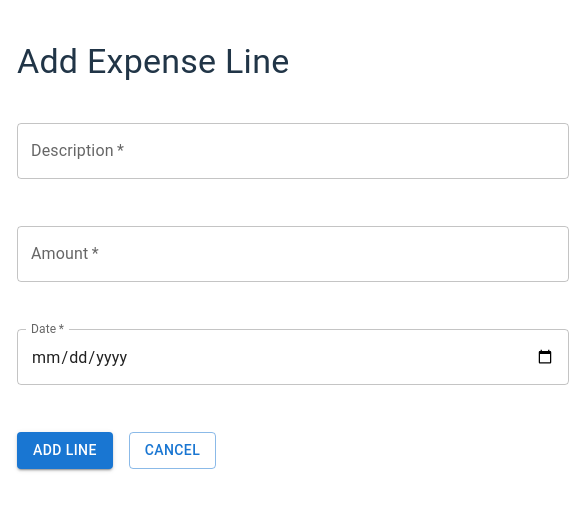
ExpenseLineDetailPage › displays server Alert on 409 response
Type "Hotel" into the field labelled "Description *". click: (293, 151)
box: [17,123,569,179]
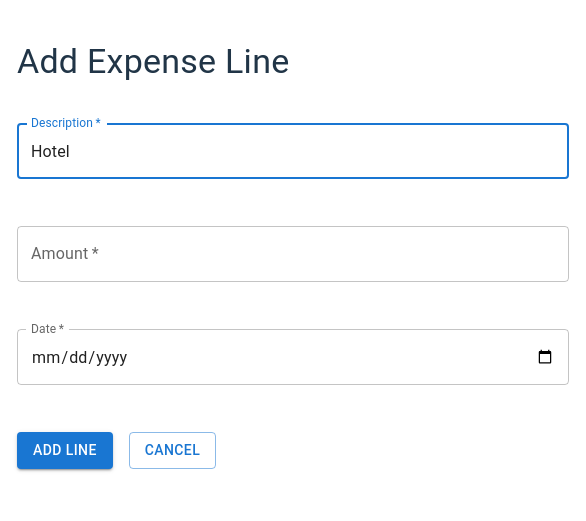
Type "50" into the number field labelled "Amount *". click: (293, 254)
box: [17,226,569,282]
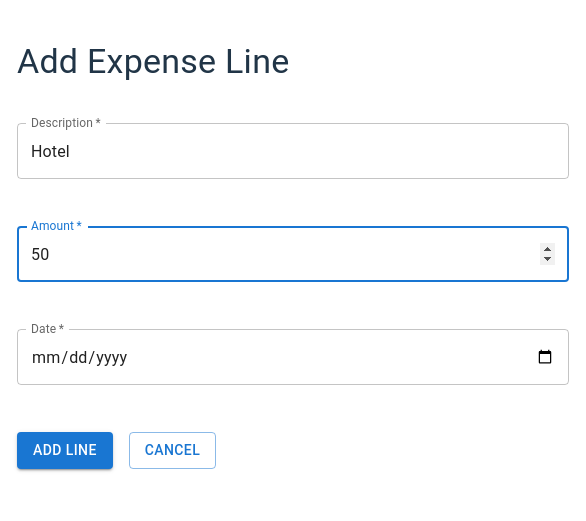
Type "2026-04-10" into the date field labelled "Date *". click: (293, 357)
box: [17,329,569,385]
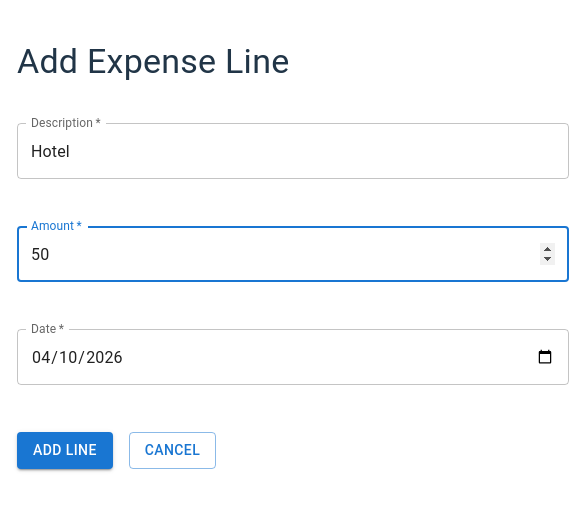
Click the button "Add Line". click: click(65, 450)
box: [17,432,113,469]
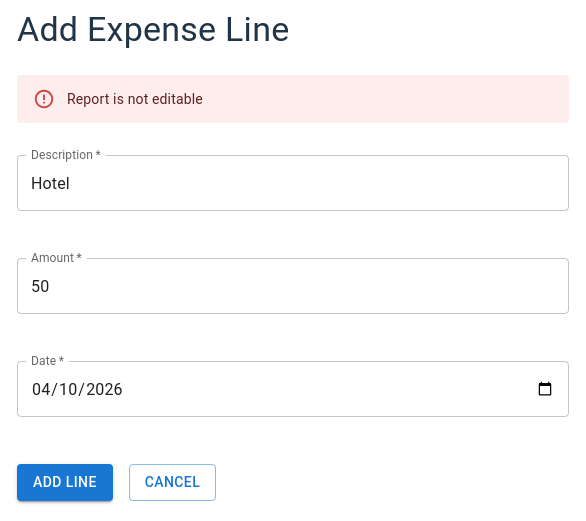
Result: the message "Report is not editable" is shown at [17,75,569,123]
Result: the text "Report is not editable" is shown at [67,91,203,107]
